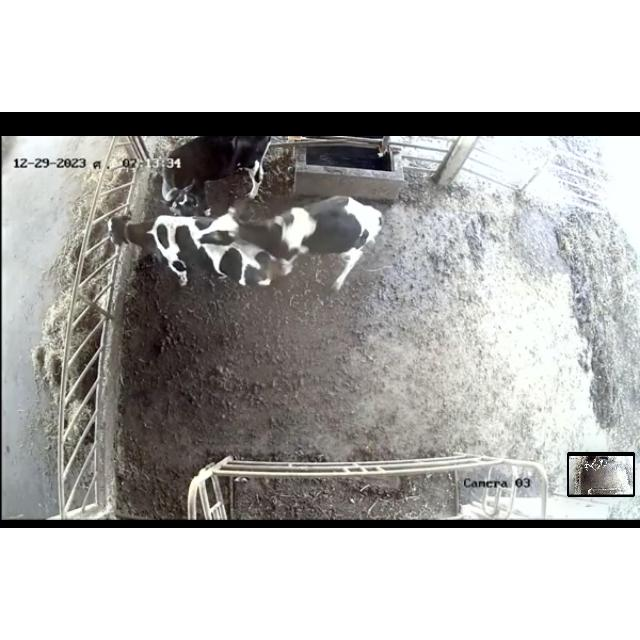propping: (182, 208, 270, 264)
